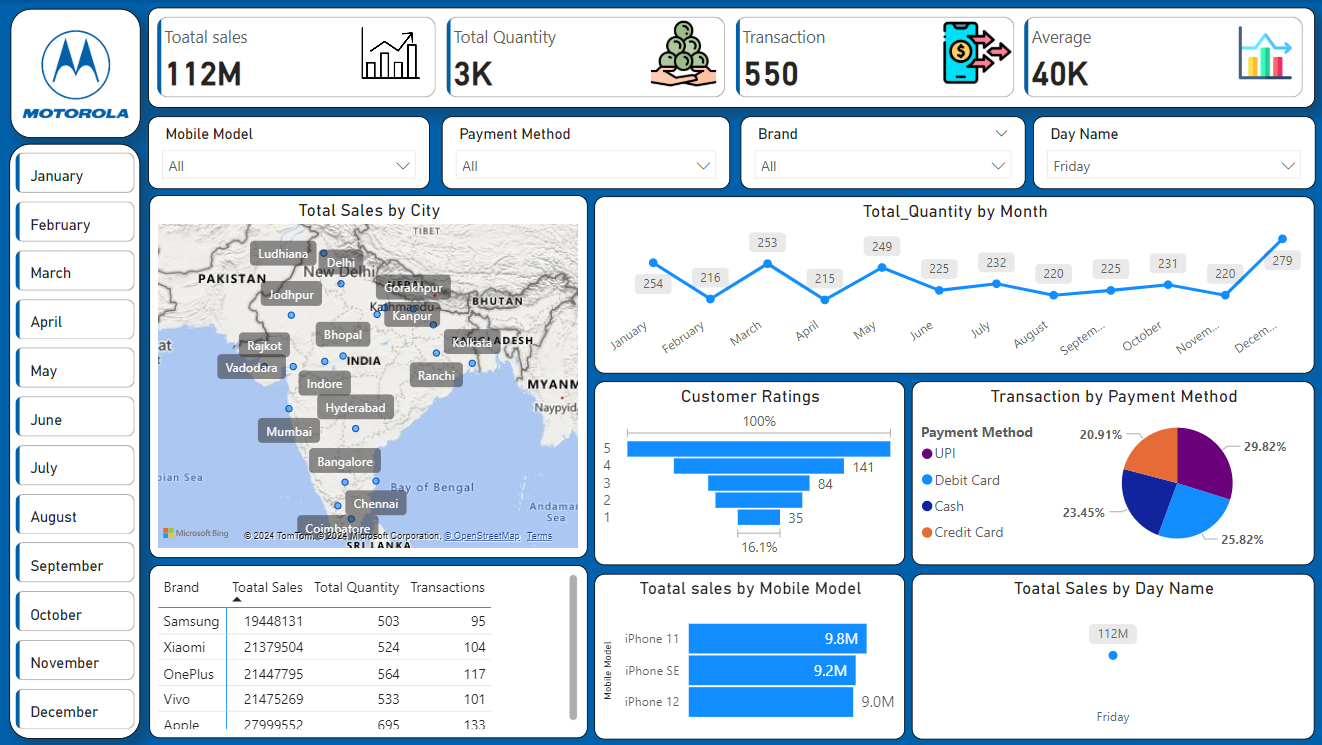

This screenshot's page, from the dashboard's own definition file:
{"tool":"powerbi","page":{"name":"Page 1","canvas":[1280,720],"ordinal":0},"visuals":[{"type":"shape","box":[11.5,8,125.9,125],"z":0},{"type":"image","box":[17.7,16.3,113.4,112],"z":1000},{"type":"shape","box":[10.6,138.3,126.8,574.6],"z":2000},{"type":"advancedSlicerVisual","fields":{"Values":["Sheet1.Date.Variation.Date Hierarchy.Month"]},"box":[11.5,141.9,125,571],"z":3000},{"type":"cardVisual","fields":{"Data":["Sales_Table.Toatal_sales","Sales_Table.Total_Quantity","Sales_Table.Total_Transaction","Sales_Table.Average_Price"]},"box":[144.4,7.8,1126.7,96.7],"z":4000},{"type":"image","box":[340,11.1,77.8,81.1],"z":5000},{"type":"image","box":[1190,21.1,66.7,61.1],"z":6000},{"type":"image","box":[622.2,13.3,77.8,76.7],"z":7000},{"type":"image","box":[905.6,13.3,77.8,75.6],"z":8000},{"type":"slicer","fields":{"Values":["Sales_Table.Mobile Model"]},"box":[145.3,112.6,272.2,70],"z":9000},{"type":"slicer","fields":{"Values":["Sales_Table.Payment Method"]},"box":[428.9,112.1,278.8,70],"z":10000},{"type":"slicer","fields":{"Values":["Sales_Table.Brand"]},"box":[716.4,112.1,275,70],"z":11000},{"type":"slicer","fields":{"Values":["Sales_Table.Day Name"]},"box":[998.9,112.1,272.5,70],"z":12000},{"type":"map","title":"Total Sales by City","fields":{"Category":["Sales_Table.City"]},"box":[145.6,187.8,423.3,350],"z":13000},{"type":"lineChart","fields":{"Category":["Sales_Table.Date.Variation.Date Hierarchy.Month"],"Y":["Sales_Table.Total_Quantity"]},"box":[575.6,188.9,695.6,171.1],"z":14000},{"type":"pieChart","title":"Transaction by Payment Method","fields":{"Category":["Sales_Table.Payment Method"],"Y":["Sales_Table.Total_Transaction"]},"box":[882.2,367.8,388.9,177.8],"z":15000},{"type":"funnel","title":"Customer Ratings","fields":{"Category":["Sales_Table.Customer Ratings"],"Y":["CountNonNull(Sales_Table.Customer Ratings)"]},"box":[575.6,367.8,300,177.8],"z":15001},{"type":"clusteredBarChart","title":"Toatal sales by Mobile Model","fields":{"Category":["Sales_Table.Mobile Model"],"Y":["Sales_Table.Toatal_sales"]},"box":[575.6,553.3,300,160],"z":15002},{"type":"pivotTable","fields":{"Rows":["Sales_Table.Brand"],"Values":["Sales_Table.Toatal_sales","Sales_Table.Total_Quantity","Sales_Table.Total_Transaction"]},"box":[145.4,545.3,423,167.6],"z":15003},{"type":"lineChart","fields":{"Category":["Sales_Table.Day Name"],"Y":["Sales_Table.Toatal_sales"]},"box":[882.2,553.3,388.9,160],"z":15004},{"type":"actionButton","box":[0,0,100,40],"z":15005}]}

Visuals, with their boxes in screenshot pixels (x1, y1, x2, y2), scaled from the page's 1280x720 canvas onto the 1322x745 screenshot:
shape: 12, 8, 142, 138
image: 18, 17, 135, 133
shape: 11, 143, 142, 738
advancedSlicerVisual - Sheet1.Date.Variation.Date Hierarchy.Month: 12, 147, 141, 738
cardVisual - Sales_Table.Toatal_sales x Sales_Table.Total_Quantity: 149, 8, 1313, 108
image: 351, 11, 432, 95
image: 1229, 22, 1298, 85
image: 643, 14, 723, 93
image: 935, 14, 1016, 92
slicer - Sales_Table.Mobile Model: 150, 117, 431, 189
slicer - Sales_Table.Payment Method: 443, 116, 731, 188
slicer - Sales_Table.Brand: 740, 116, 1024, 188
slicer - Sales_Table.Day Name: 1032, 116, 1313, 188
"Total Sales by City" map: 150, 194, 588, 556
lineChart - Sales_Table.Date.Variation.Date Hierarchy.Month x Sales_Table.Total_Quantity: 594, 195, 1313, 373
"Transaction by Payment Method" pieChart: 911, 381, 1313, 565
"Customer Ratings" funnel: 594, 381, 904, 565
"Toatal sales by Mobile Model" clusteredBarChart: 594, 573, 904, 738
pivotTable - Sales_Table.Brand x Sales_Table.Toatal_sales: 150, 564, 587, 738
lineChart - Sales_Table.Day Name x Sales_Table.Toatal_sales: 911, 573, 1313, 738
actionButton: 0, 0, 103, 41
